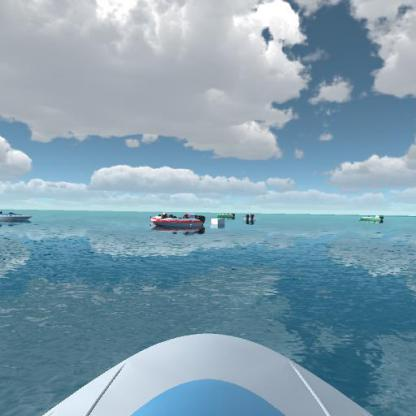usv0: (358, 210, 386, 230), (216, 210, 236, 222)
usv1: (0, 203, 36, 229), (242, 211, 259, 224)
usv3: (159, 211, 213, 235), (147, 209, 176, 230)
